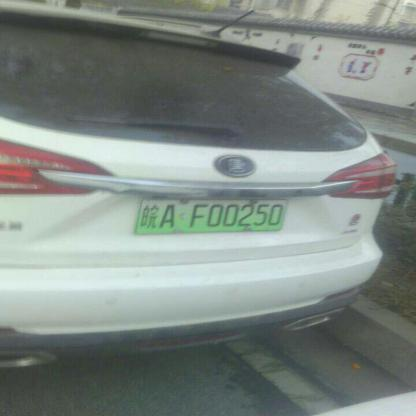lp: (136, 199, 286, 234)
